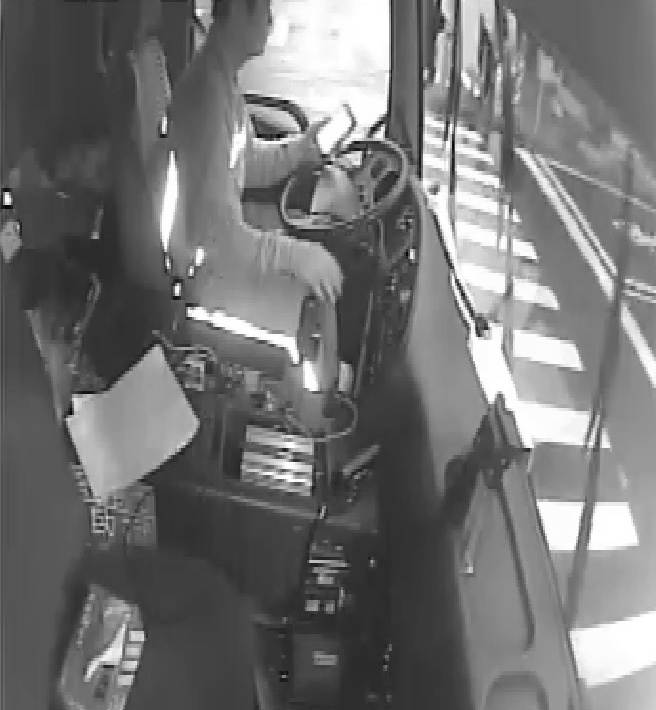cellphone: (305, 101, 358, 160)
